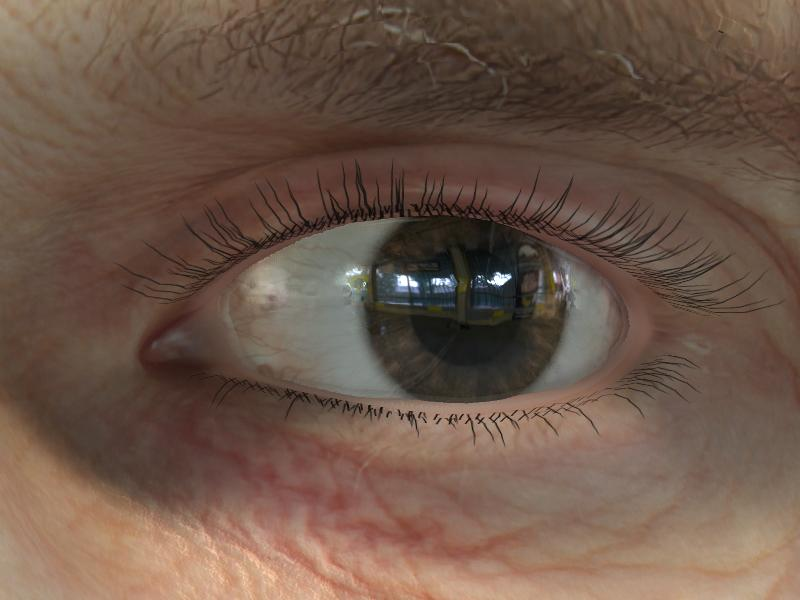eye: (369, 215, 570, 401)
